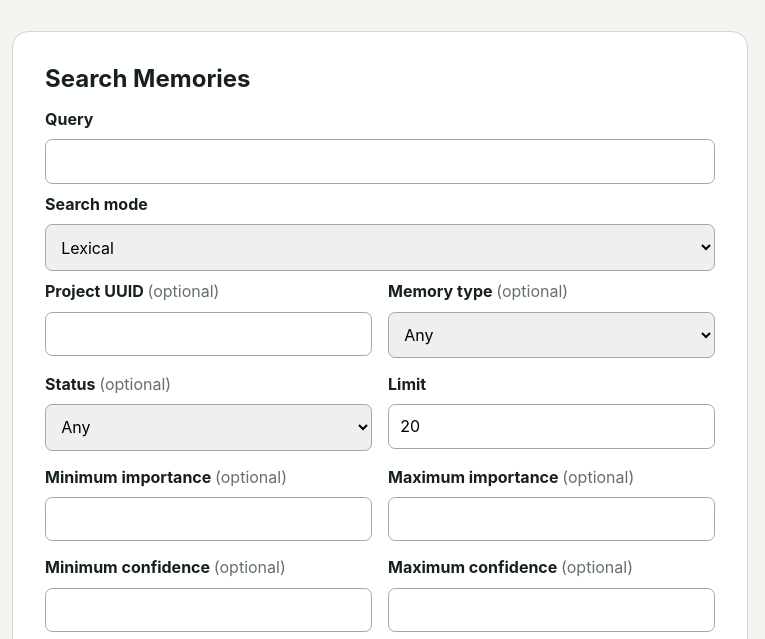
it: Search › renders hybrid channel variants
The width and height of the screenshot is (765, 639).
Type "needle" into the field labelled "Query" at (380, 161), box x1=45 y1=139 x2=715 y2=184
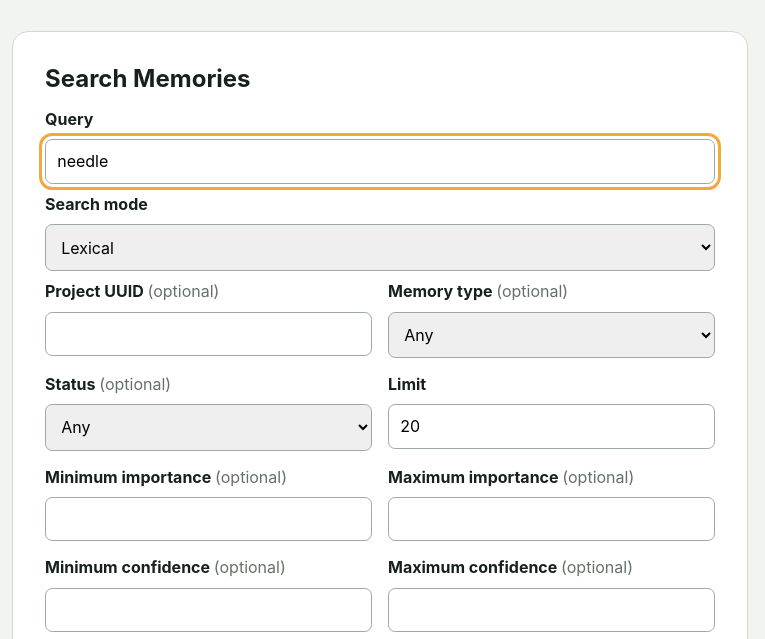
Select "Hybrid (RRF)" in the dropdown labelled "Search mode" at (380, 248), box x1=45 y1=224 x2=715 y2=271
(page scrolled)
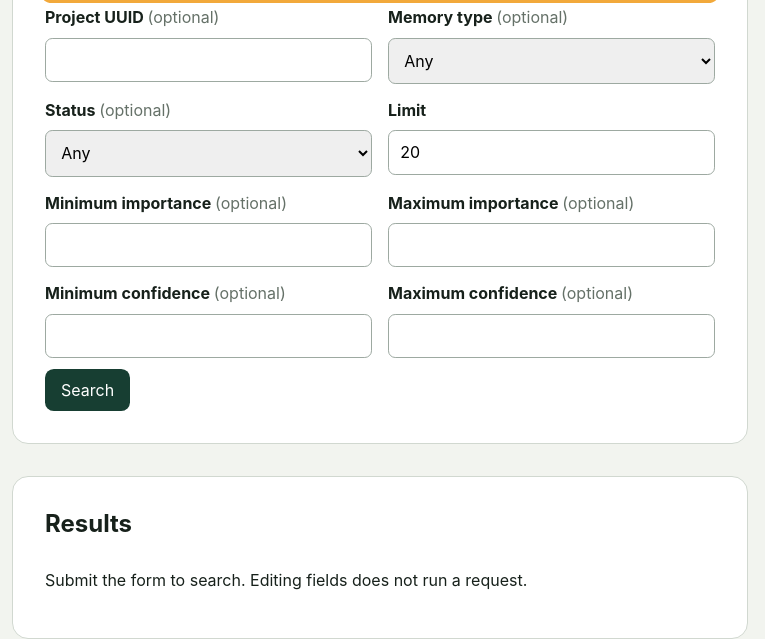
Click the button "Search" at (88, 390), box x1=45 y1=369 x2=130 y2=411
(page scrolled)
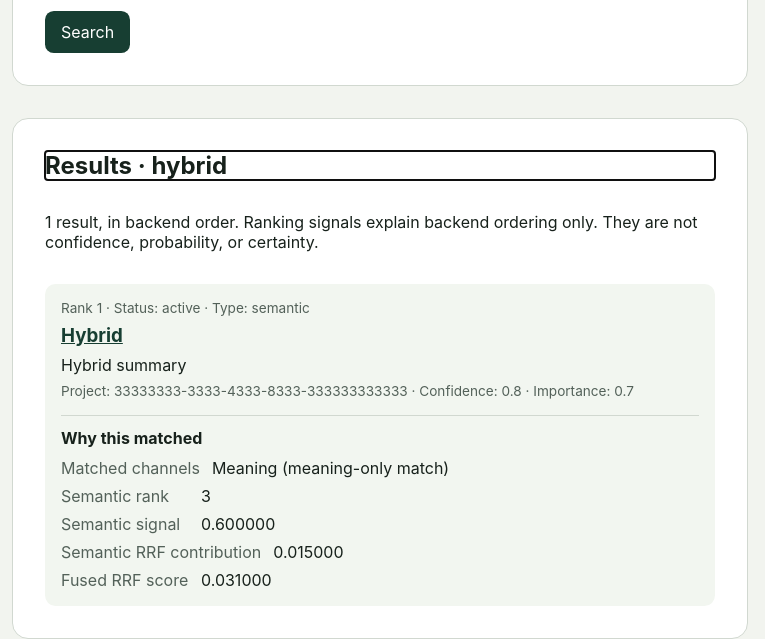
expect the text "Meaning (meaning-only match)" is shown: met, box x1=212 y1=458 x2=449 y2=478
expect the text "0.031000" is shown: met, box x1=201 y1=570 x2=272 y2=590
